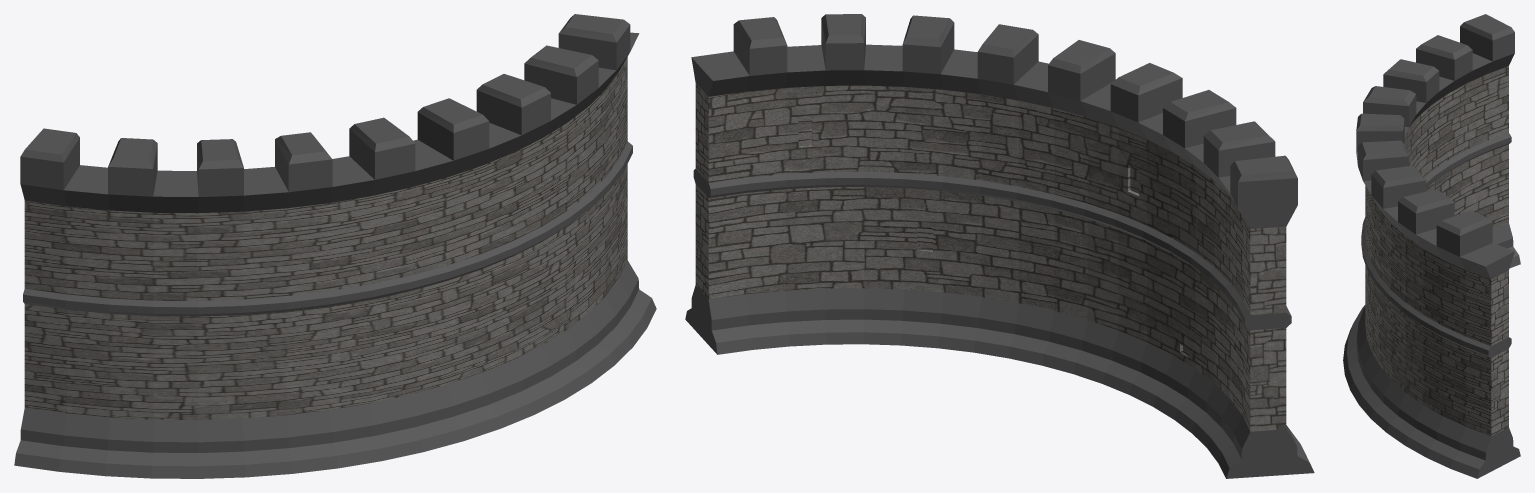
Rendered from castle_wall02.fbx.
3 views of the same model, side by side, from view 1: azimuth 30°, elevation 25°; view 2: azimuth 150°, elevation 25°; view 3: azimuth 270°, elevation 25° (orthographic). The views are drawn at different scales.
Parts seen in each view (by area): view 1: wall; view 2: wall; view 3: wall.
Boxes of the visible parts, bbox=[...] form: wall: bbox=[14, 14, 656, 478]; wall: bbox=[685, 14, 1314, 478]; wall: bbox=[1343, 14, 1520, 478].
Size of the model in its own units: 34.77 by 15.93 by 11.
